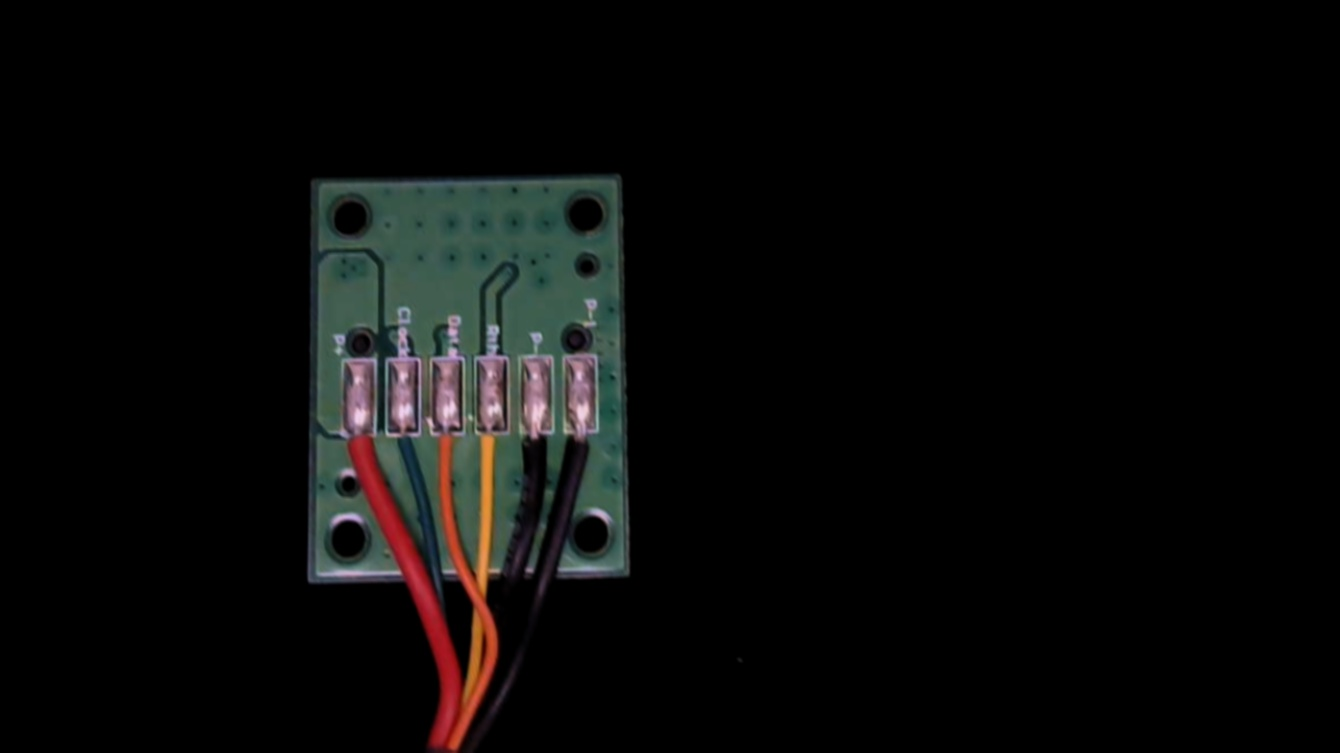Black: (514, 413, 554, 497)
Black1: (565, 413, 600, 489)
Green: (381, 411, 420, 498)
Orange: (428, 412, 465, 501)
Red: (338, 415, 378, 502)
Yellow: (471, 411, 508, 488)
